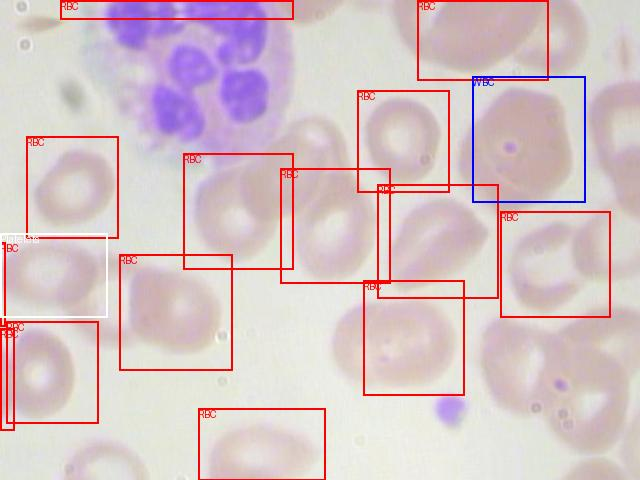Platelets: (0, 233, 107, 317)
RBC: (377, 184, 498, 298), (119, 254, 232, 370), (183, 153, 293, 269), (280, 168, 390, 283), (500, 211, 610, 317), (363, 280, 464, 395), (417, 0, 548, 80), (357, 90, 449, 192), (26, 136, 118, 238), (6, 321, 98, 423), (198, 408, 325, 480), (60, 0, 293, 19), (0, 328, 14, 430), (0, 242, 5, 326)
WBC: (472, 76, 585, 202)
